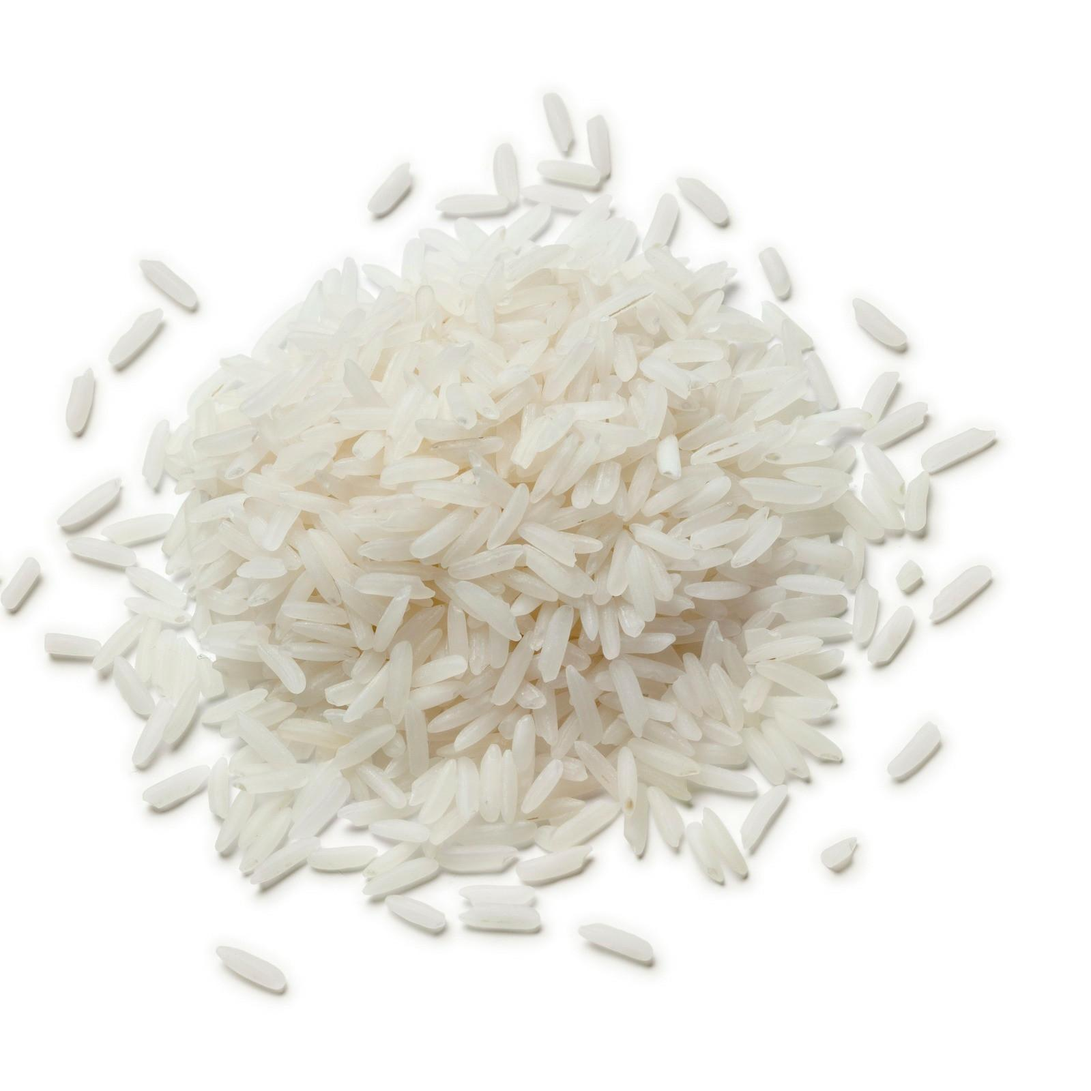WhiteRice: (39, 82, 1010, 1002)
